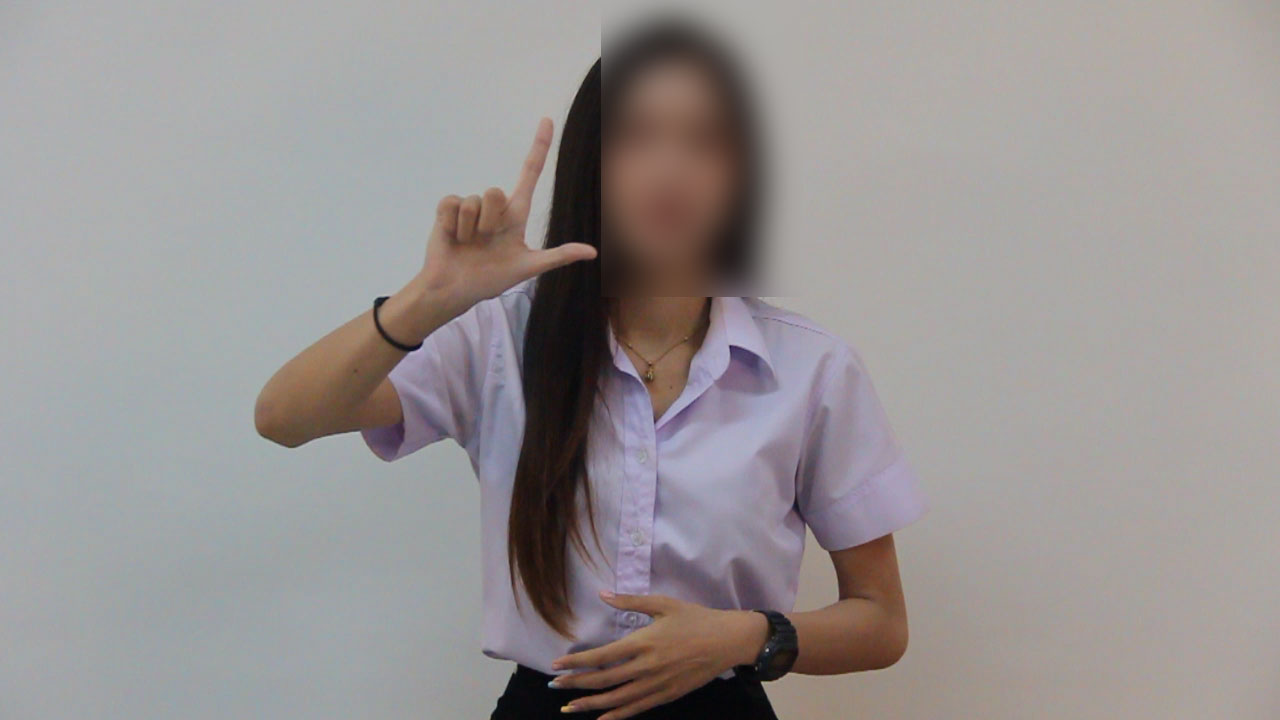lor: (409, 107, 610, 318)
